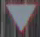Give way: (1, 0, 38, 36)
